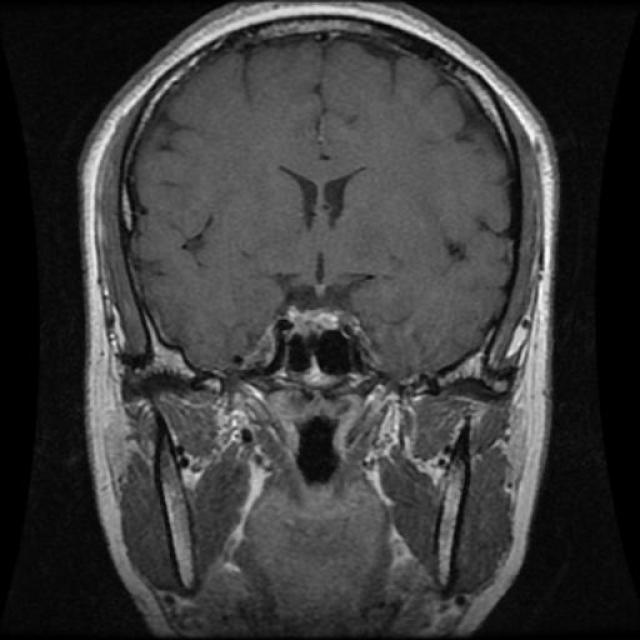pituitary: (279, 274, 372, 387)
